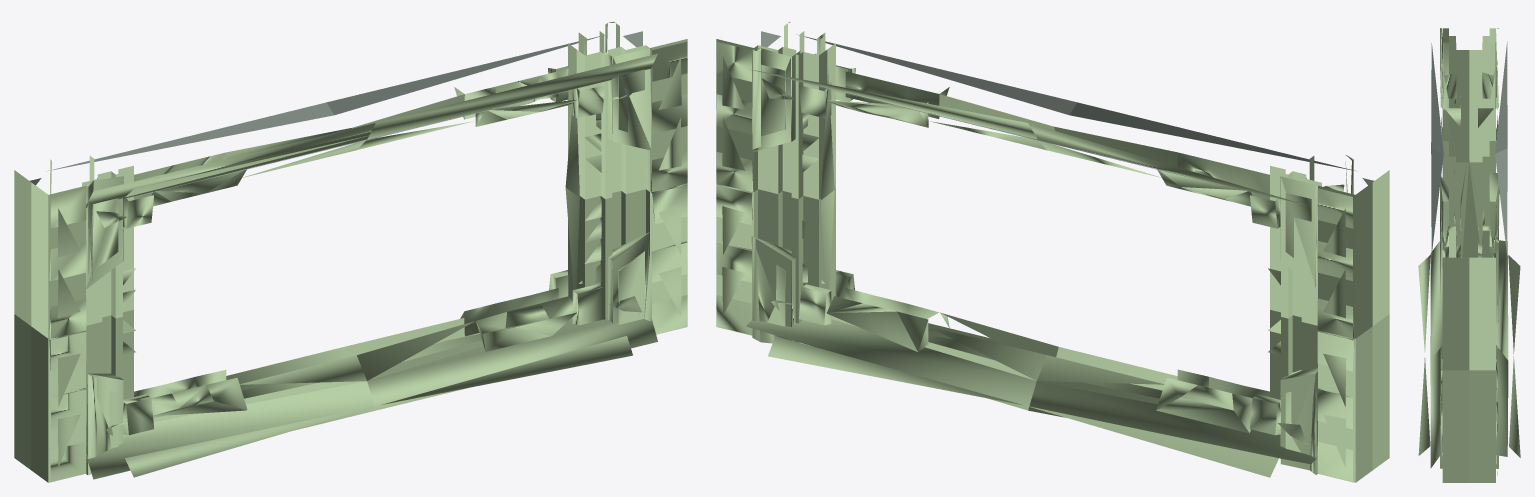
Rendered from grimhex_building_3_floor_landingpad_corner_72x32_a_lod5.glb.
3 renders of one model, left to right at view 1: azimuth 30°, elevation 25°; view 2: azimuth 150°, elevation 25°; view 3: azimuth 270°, elevation 25°, orthographic. The views are drawn at different scales.
Size of the model in its own units: 102 by 45.14 by 18.12.
